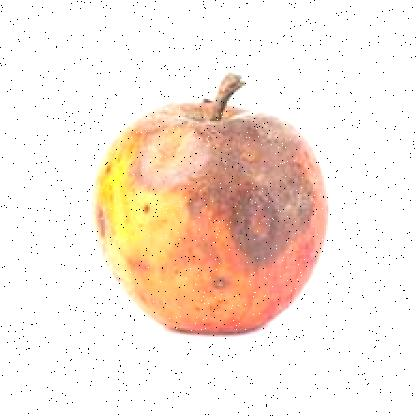damaged_apple: (93, 86, 338, 344)
